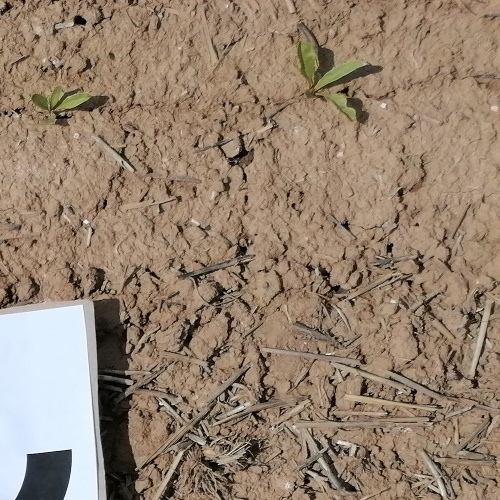beet: (296, 41, 368, 122), (30, 86, 95, 114)
